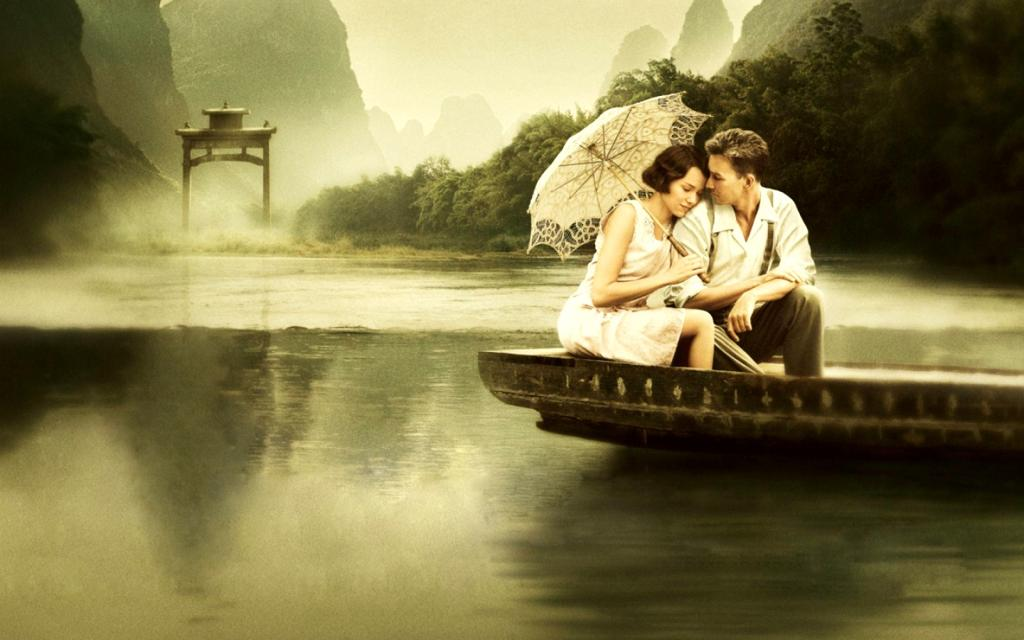face: (670, 163, 706, 217), (705, 152, 740, 204)
